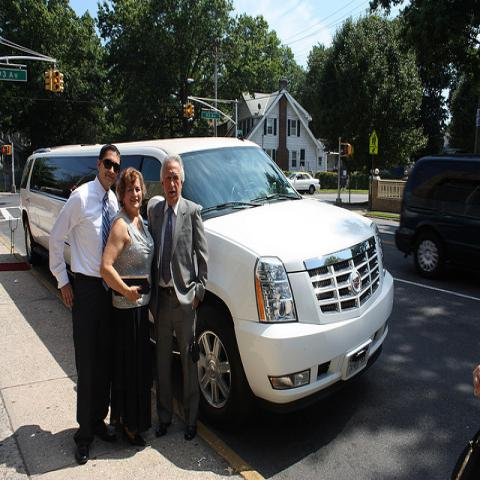car: (23, 136, 394, 418), (394, 144, 480, 278), (290, 170, 321, 196)
